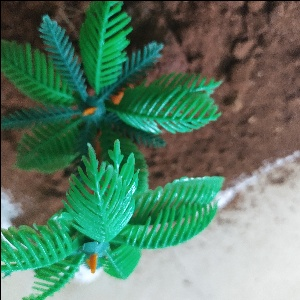plant: (1, 3, 212, 274)
